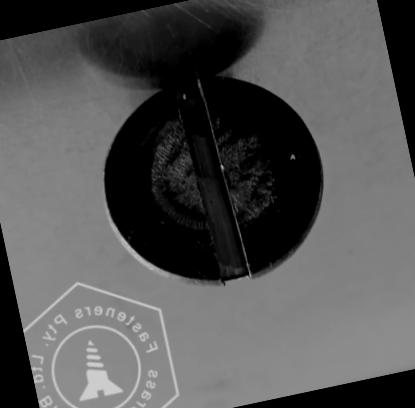slotted: (84, 53, 341, 306)
